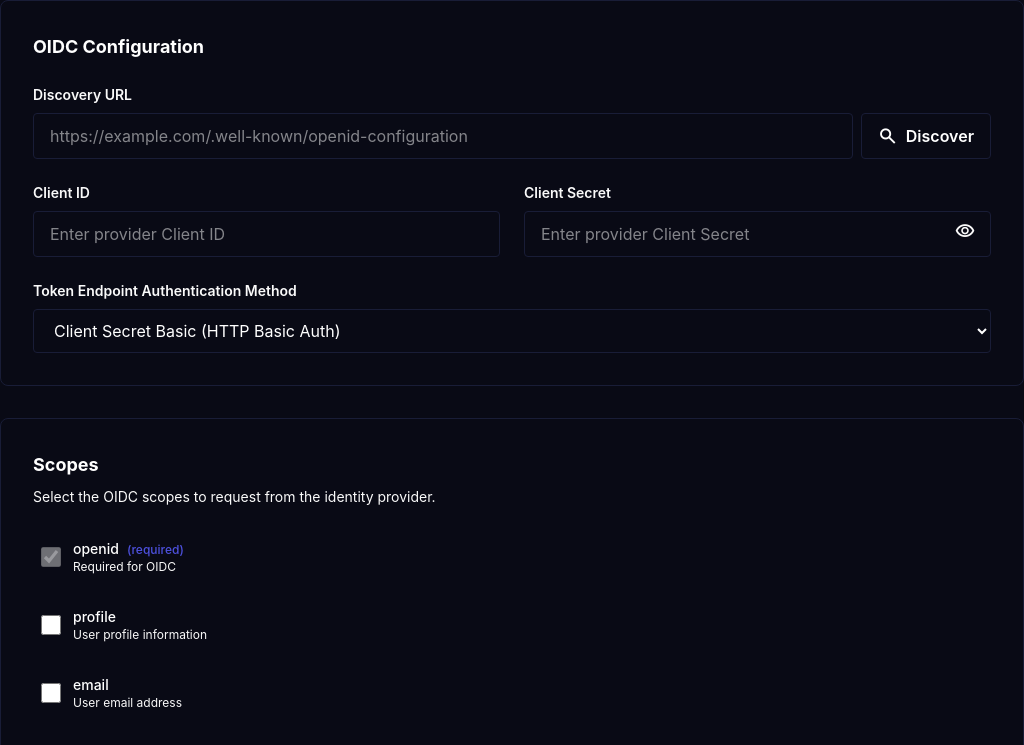
Test: OidcConfigForm › Auto-Discovery (AC3) › shows error for invalid discovery URL
Type "https://invalid-url.com/not-found" into the field labelled "Discovery URL" at (443, 136), box [33,113,853,159]
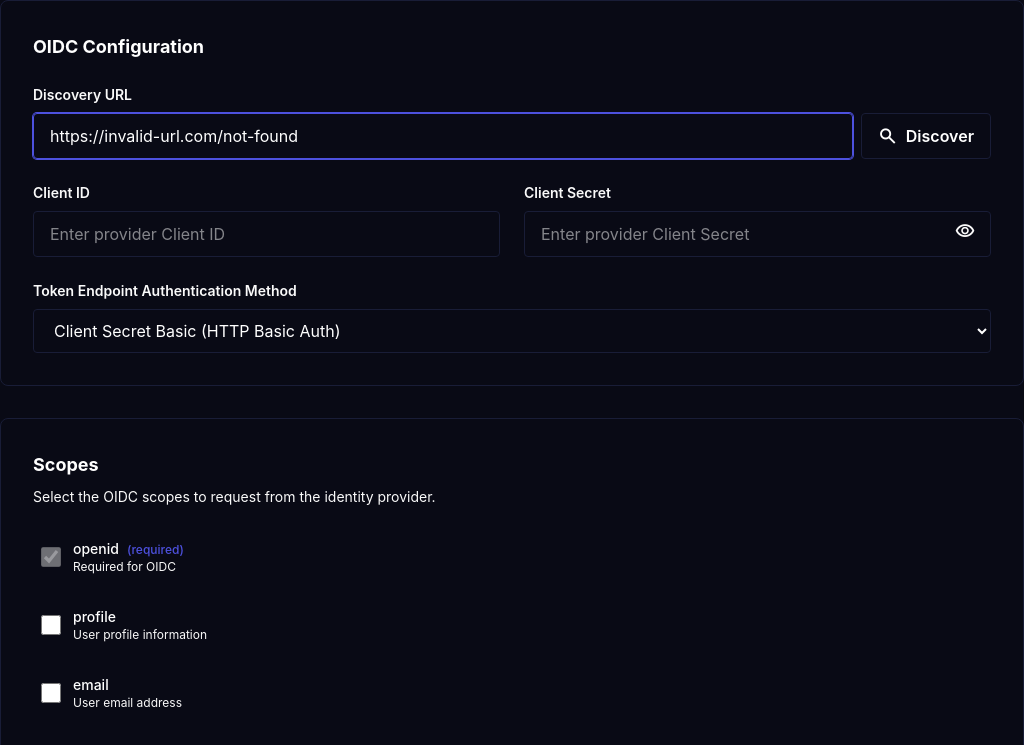
Click the button "Discover" at (926, 136), box [861,113,991,159]
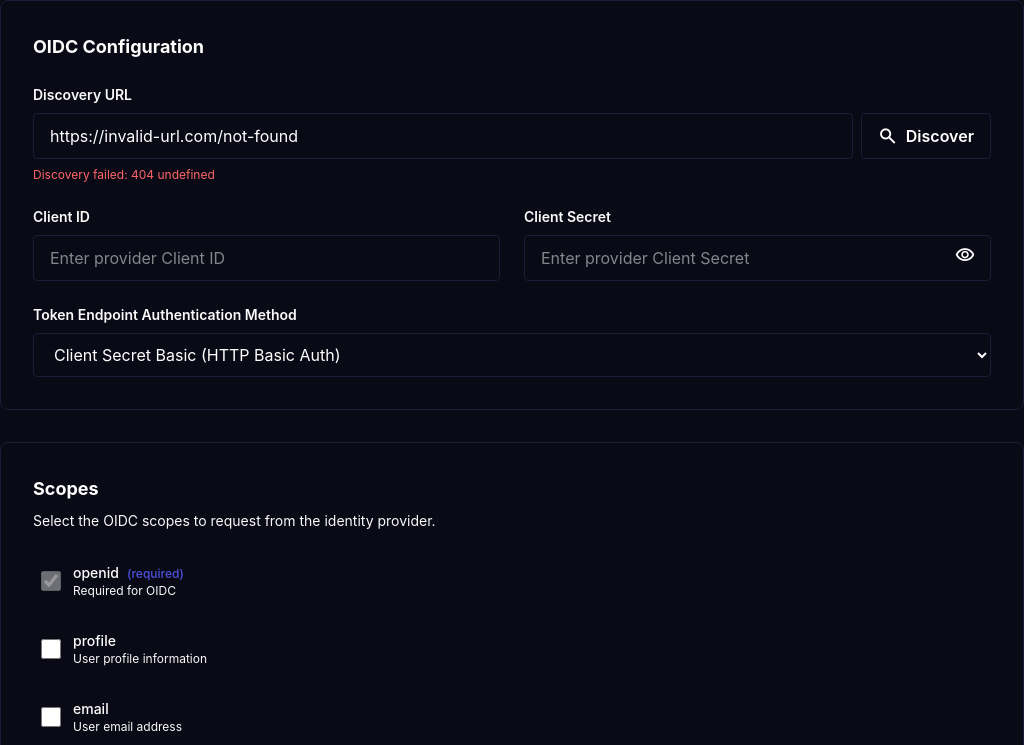
Now the text "Discovery failed: 404 undefined" is shown, box [33,167,215,182]
